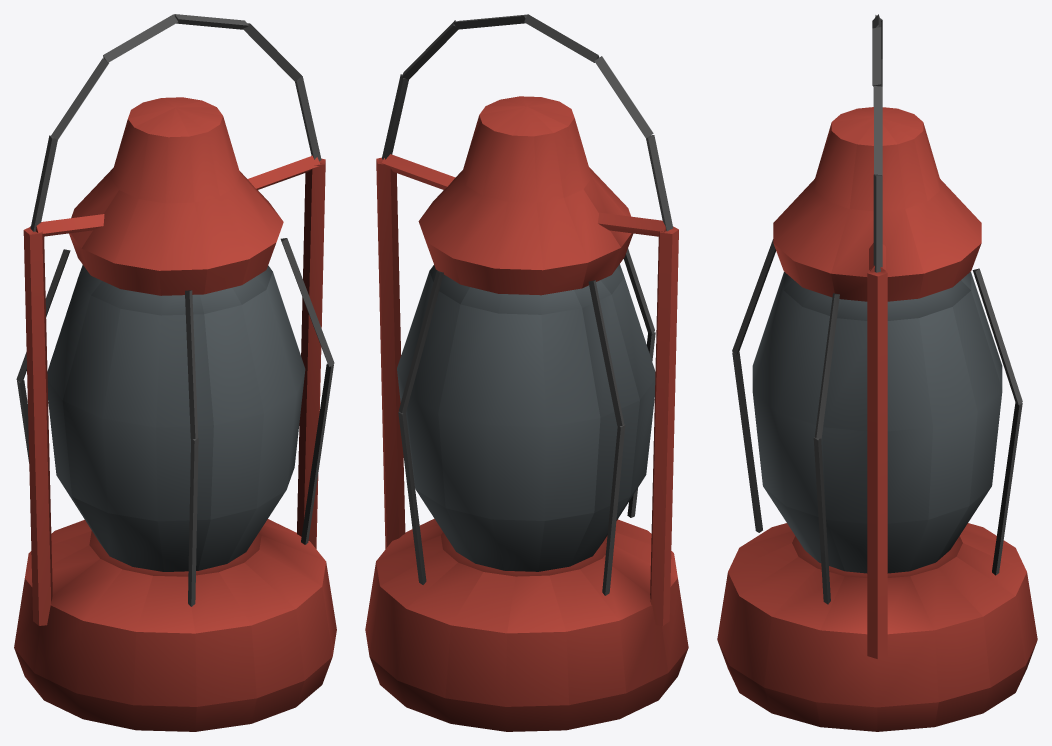
The model's file is hurricane_lamp.glb.
The picture shows the model from 3 angles, left to right: view 1: azimuth 30°, elevation 25°; view 2: azimuth 150°, elevation 25°; view 3: azimuth 270°, elevation 25°; orthographic projection.
Parts seen in each view (by area): view 1: static; view 2: static; view 3: static.
Part boxes in pixels (x1,y1,x2,y2): static: [14, 14, 336, 731]; static: [365, 14, 688, 731]; static: [717, 14, 1037, 731].
Bounding box in the file's own units: 0.1591 × 0.3323 × 0.15.
